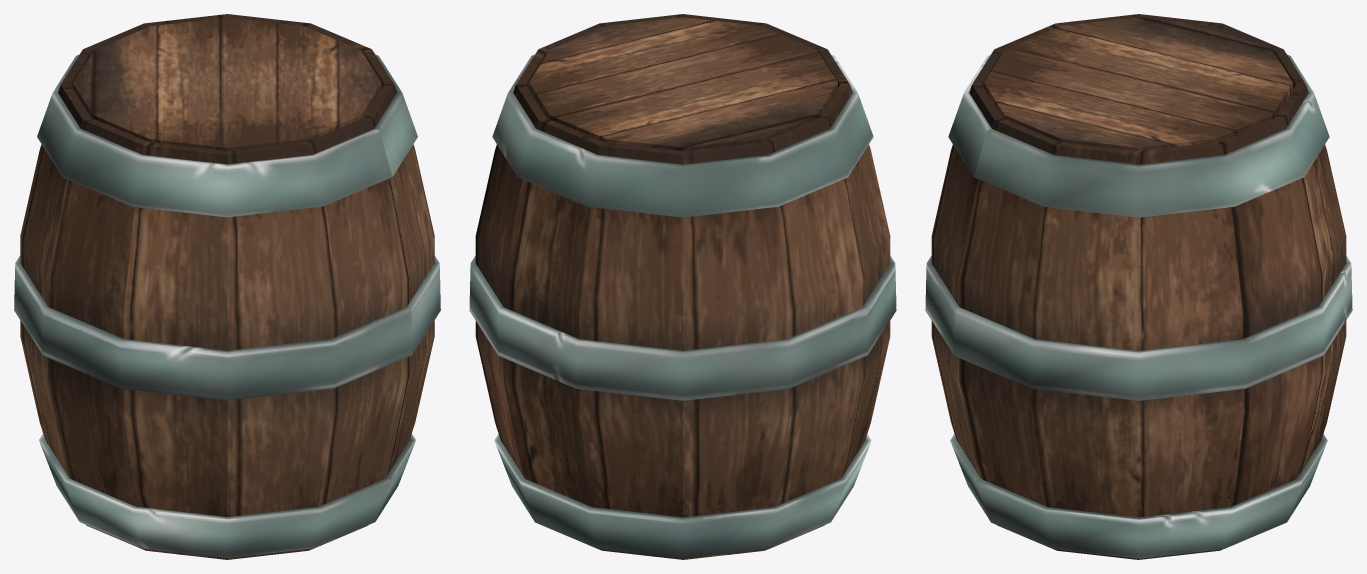
File: barrel_004.fbx
3 renders of one model, left to right at view 1: azimuth 30°, elevation 25°; view 2: azimuth 150°, elevation 25°; view 3: azimuth 270°, elevation 25°, orthographic.
Parts seen in each view (by area): view 1: barrel_0041; view 2: barrel_0041; view 3: barrel_0041.
Part boxes in pixels (x1=…): barrel_0041: x1=14, y1=14, x2=440, y2=559; barrel_0041: x1=469, y1=14, x2=896, y2=559; barrel_0041: x1=925, y1=14, x2=1352, y2=559.
Bounding box in the file's own units: 43.56 × 46 × 43.56.
